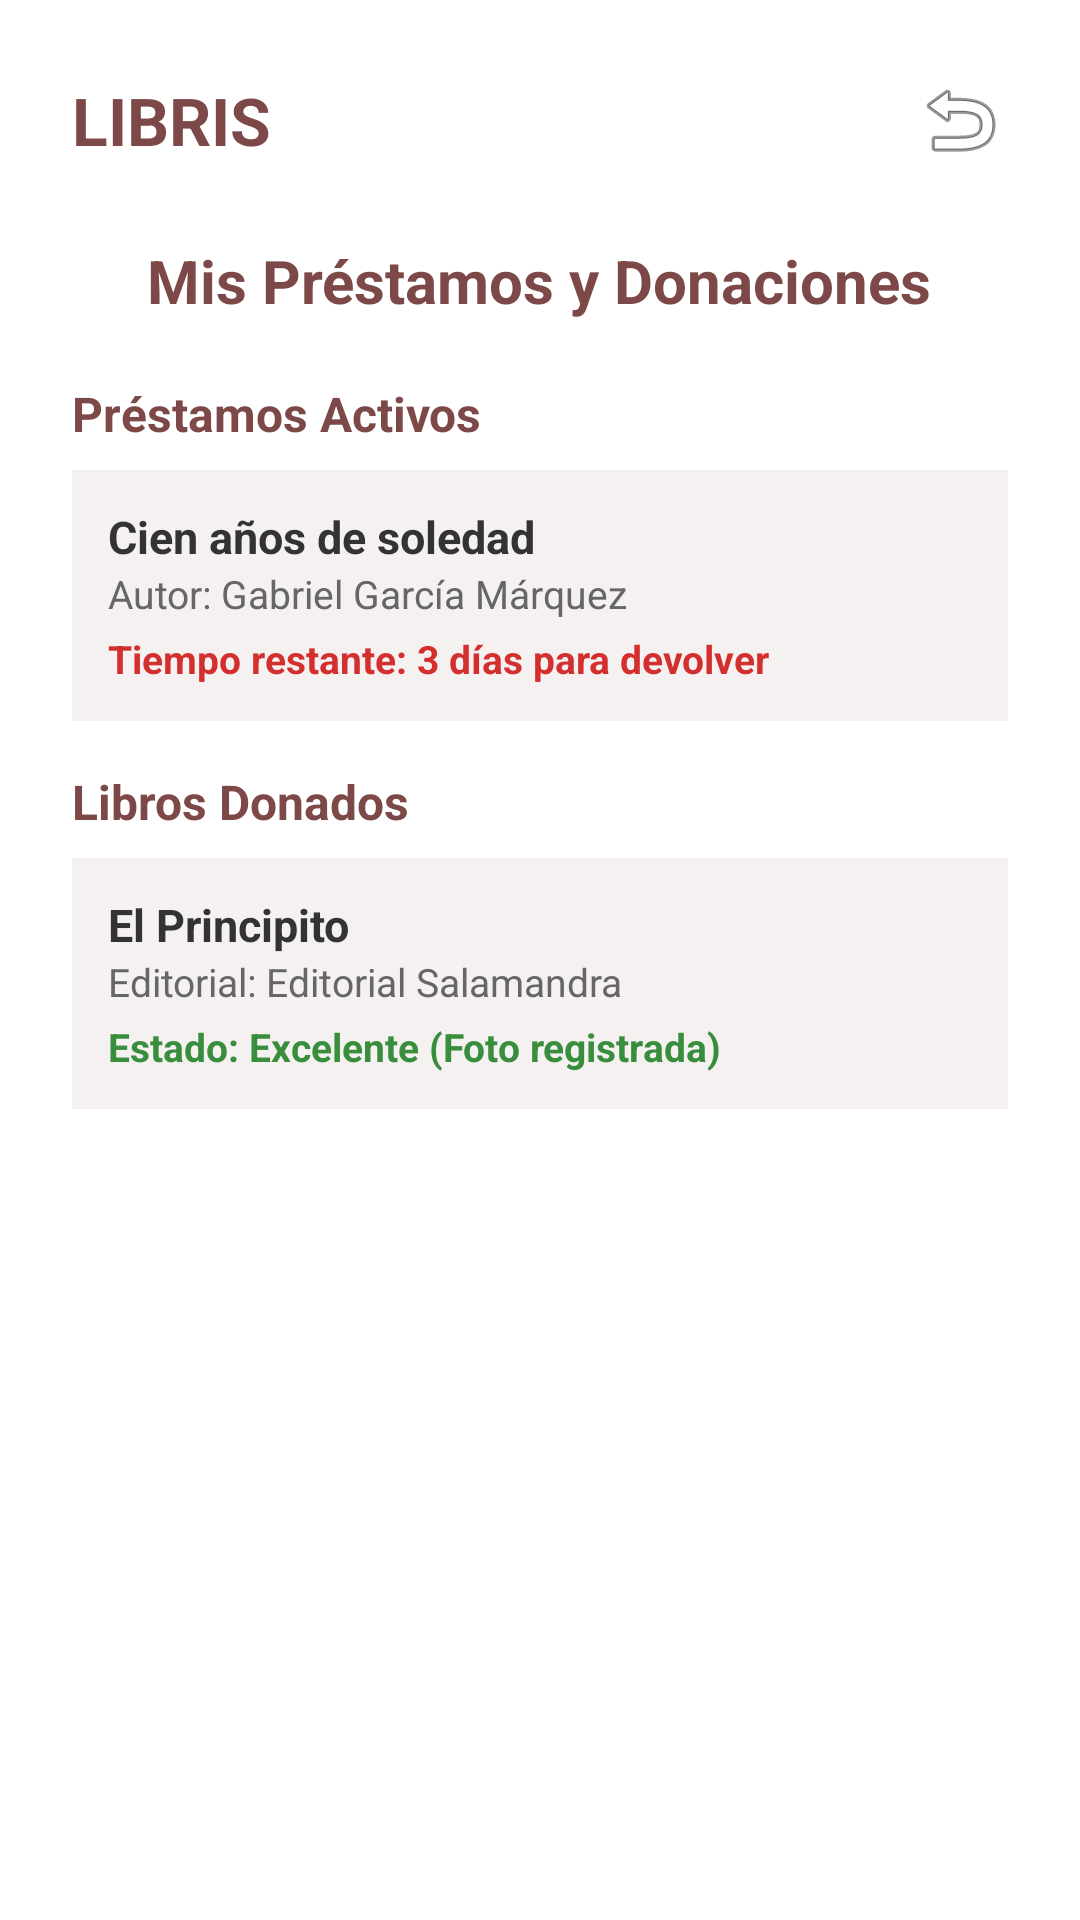

Screen size 1080px×1920px. Icon name, then its box in pixels as (x1, y1, x2, y2):
Regresar: (927, 89, 996, 152)
